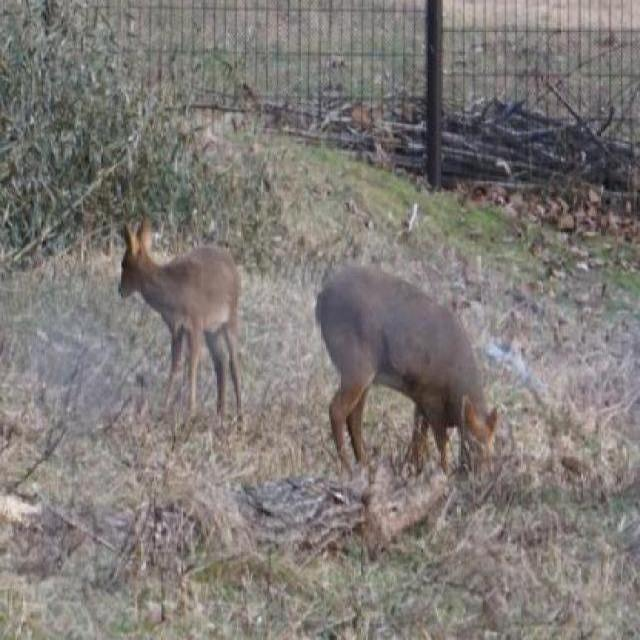deer: (117, 213, 243, 436)
